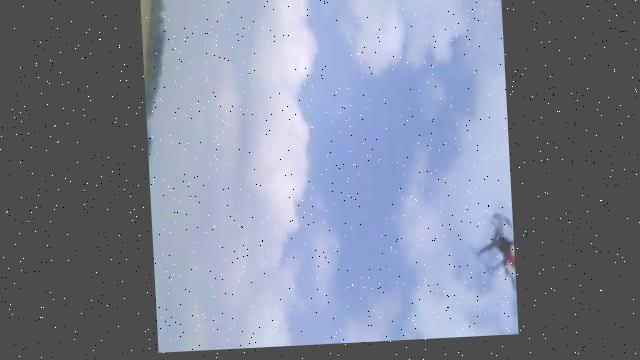drone: (466, 216, 513, 298)
